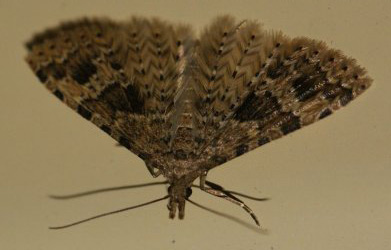Alucitidae: (7, 9, 371, 227)
moth: (9, 11, 373, 229)
